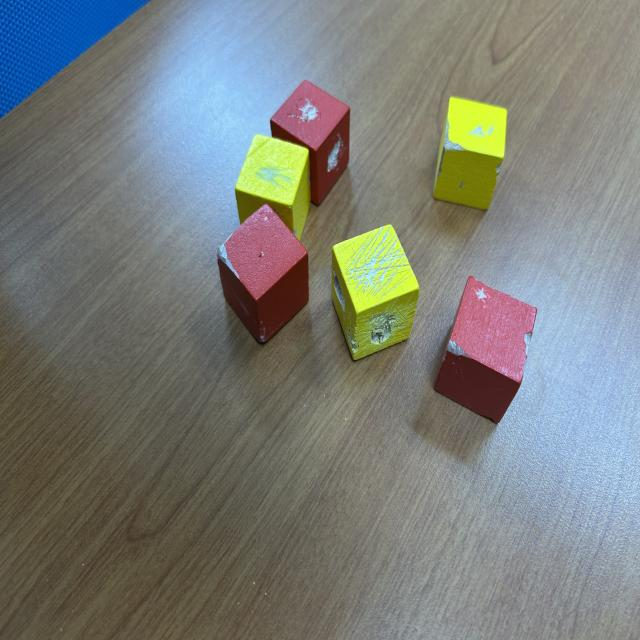broken: (433, 274, 538, 424), (217, 202, 310, 344), (330, 223, 420, 362), (270, 79, 350, 207), (431, 97, 508, 211), (234, 133, 312, 243)
